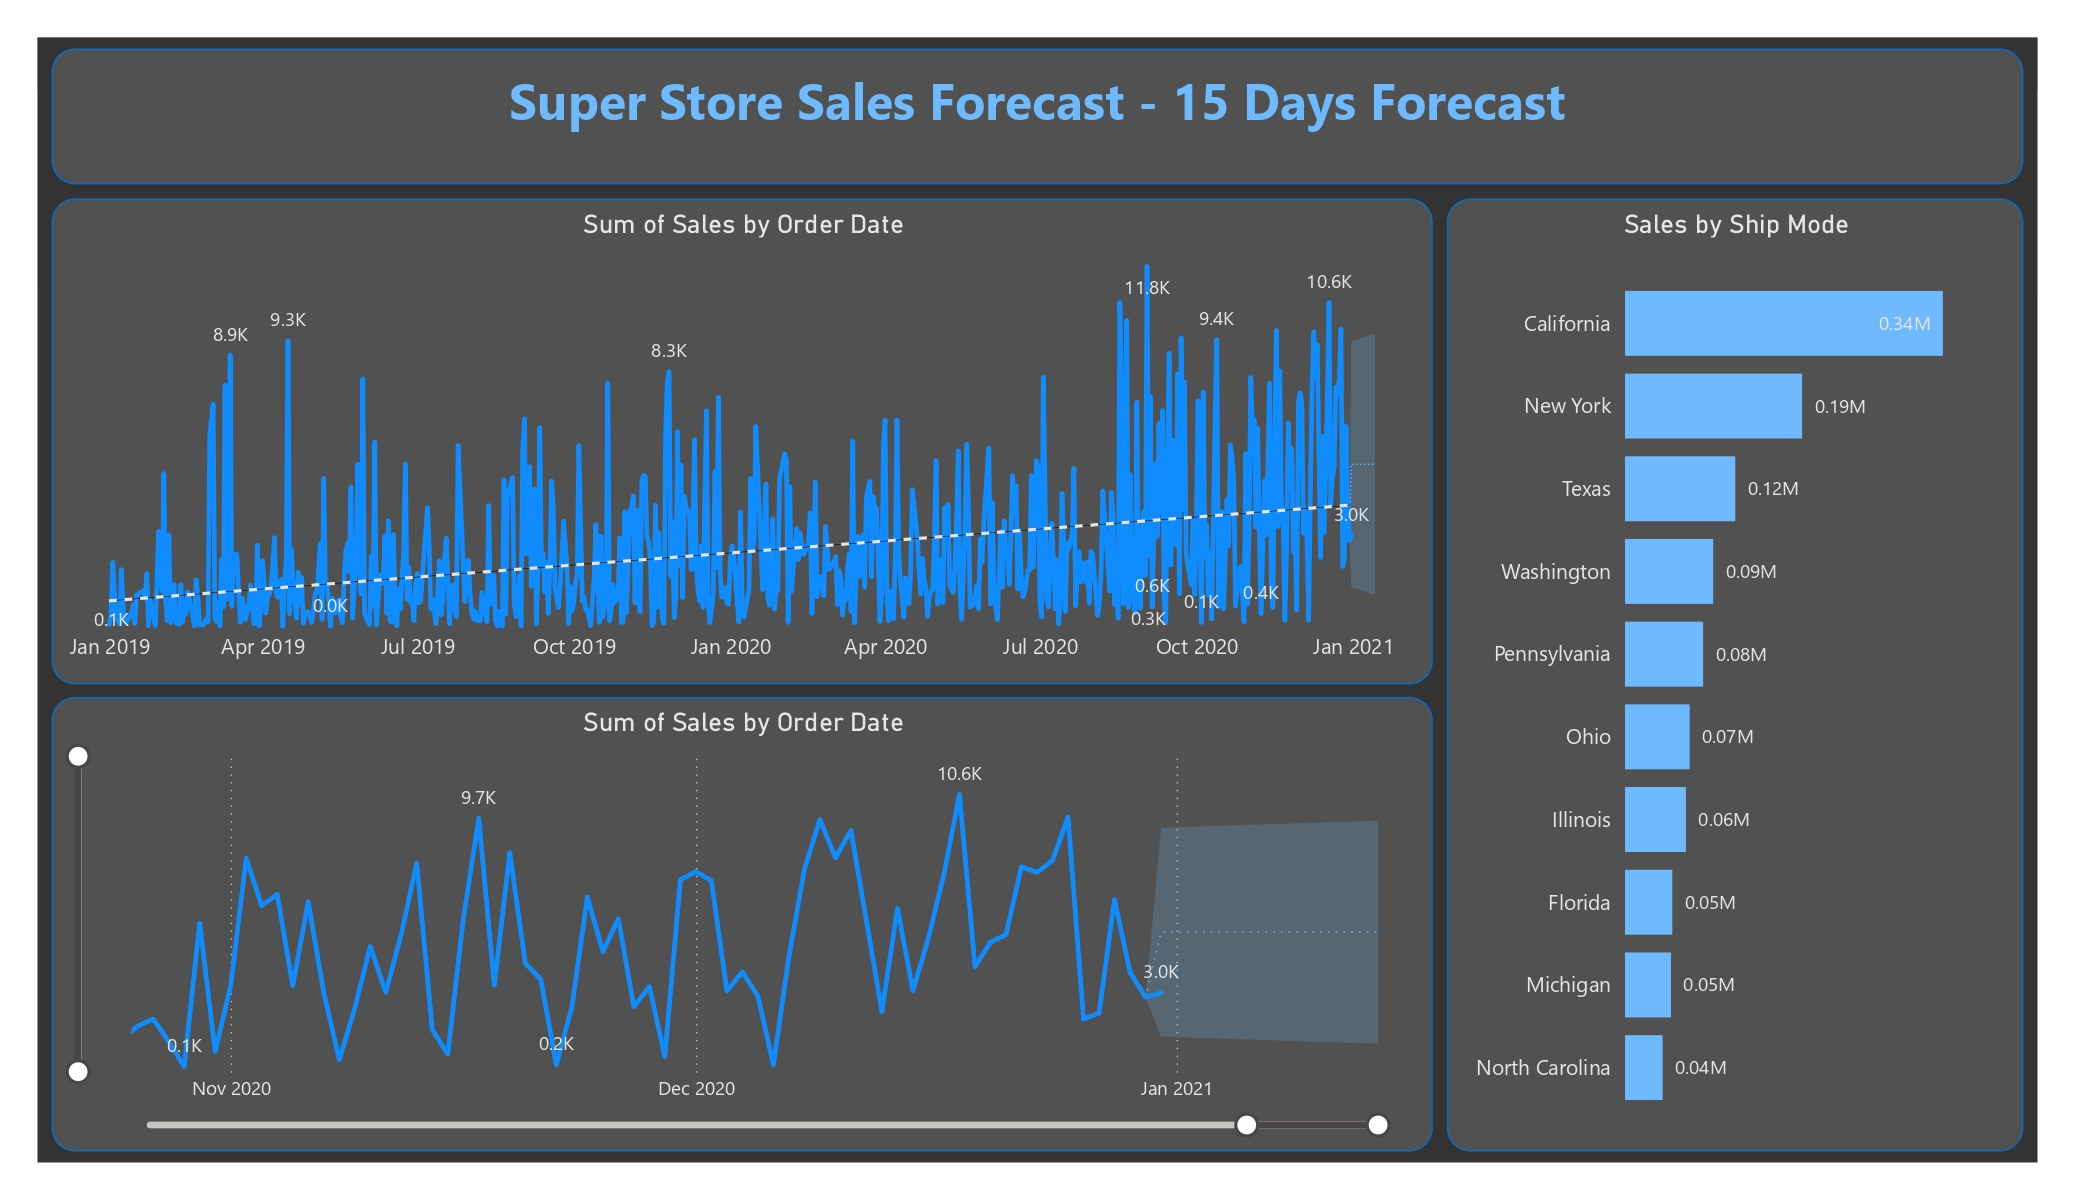

The dashboard page shown, as its layout file describes it:
{"tool":"powerbi","page":{"name":"Forecast","canvas":[1280,720],"ordinal":1},"visuals":[{"type":"lineChart","fields":{"Y":["Sum(SuperStore_Sales_Dataset.Sales)"],"Category":["SuperStore_Sales_Dataset.Order Date"]},"box":[8.8,102.9,884.6,311.5],"z":0},{"type":"lineChart","fields":{"Y":["Sum(SuperStore_Sales_Dataset.Sales)"],"Category":["SuperStore_Sales_Dataset.Order Date"]},"box":[8.8,421.7,884.6,290.9],"z":1000},{"type":"clusteredBarChart","title":"Sales by Ship Mode","fields":{"Category":["SuperStore_Sales_Dataset.State"],"Y":["Sum(SuperStore_Sales_Dataset.Sales)"]},"box":[902.2,102.9,368.8,609.8],"z":2000},{"type":"textbox","box":[8.8,7.3,1262.2,86.7],"z":3000}]}

Visuals, with their boxes in screenshot pixels (x1, y1, x2, y2):
lineChart - Sum(SuperStore_Sales_Dataset.Sales) x SuperStore_Sales_Dataset.Order Date: (51,198,1433,685)
lineChart - Sum(SuperStore_Sales_Dataset.Sales) x SuperStore_Sales_Dataset.Order Date: (51,696,1433,1151)
"Sales by Ship Mode" clusteredBarChart: (1447,198,2023,1151)
textbox: (51,49,2023,184)
